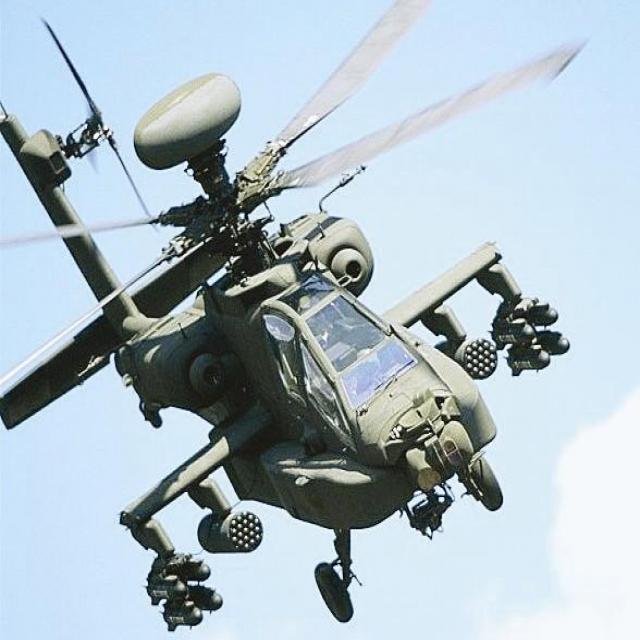MIL_HELO: (0, 0, 634, 628)
